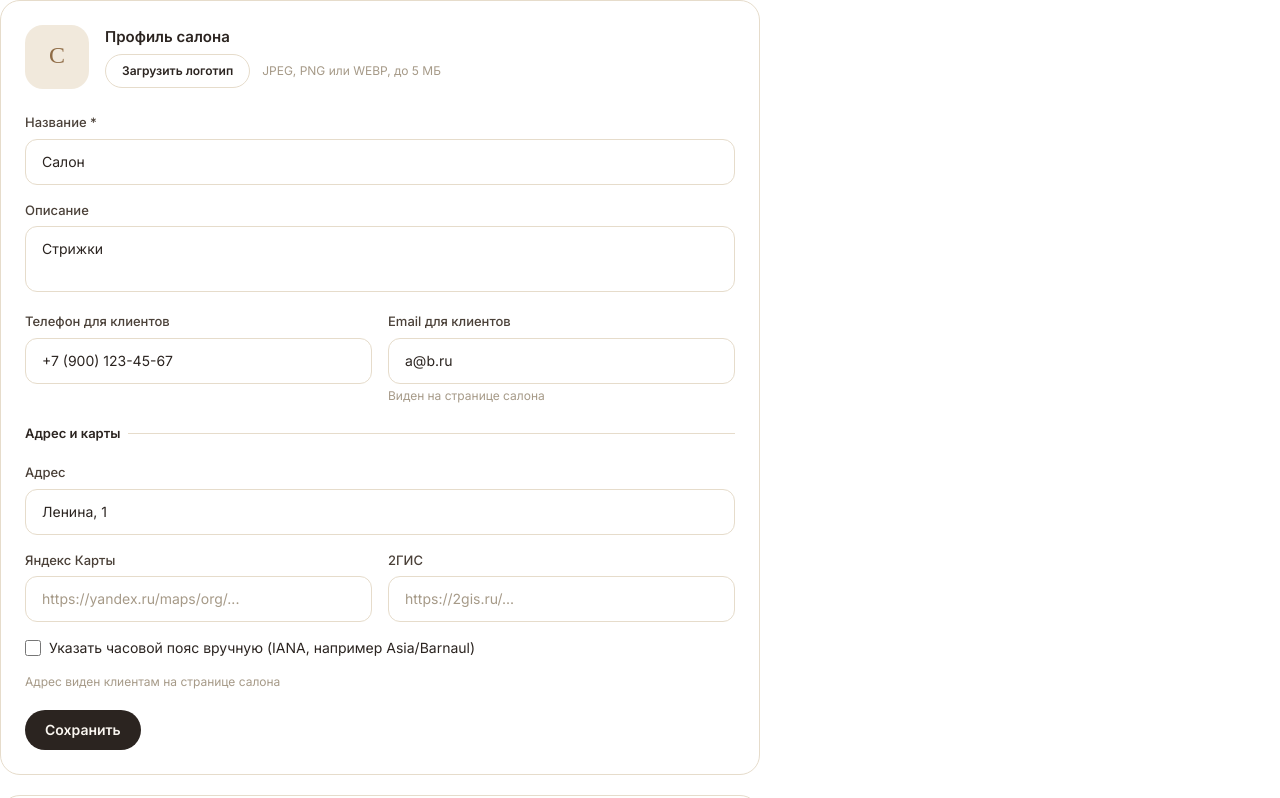
QA32 — US-32-02 сохранение профиля одной кнопкой › QA32-10: ручной пояс с другим смещением — то же окно подтверждения
This screenshot has width=1280, height=798.
Click the checkbox labelled "Указать часовой пояс вручную (IANA, например Asia/Barnaul)". click: (33, 648)
box: [25,640,41,656]
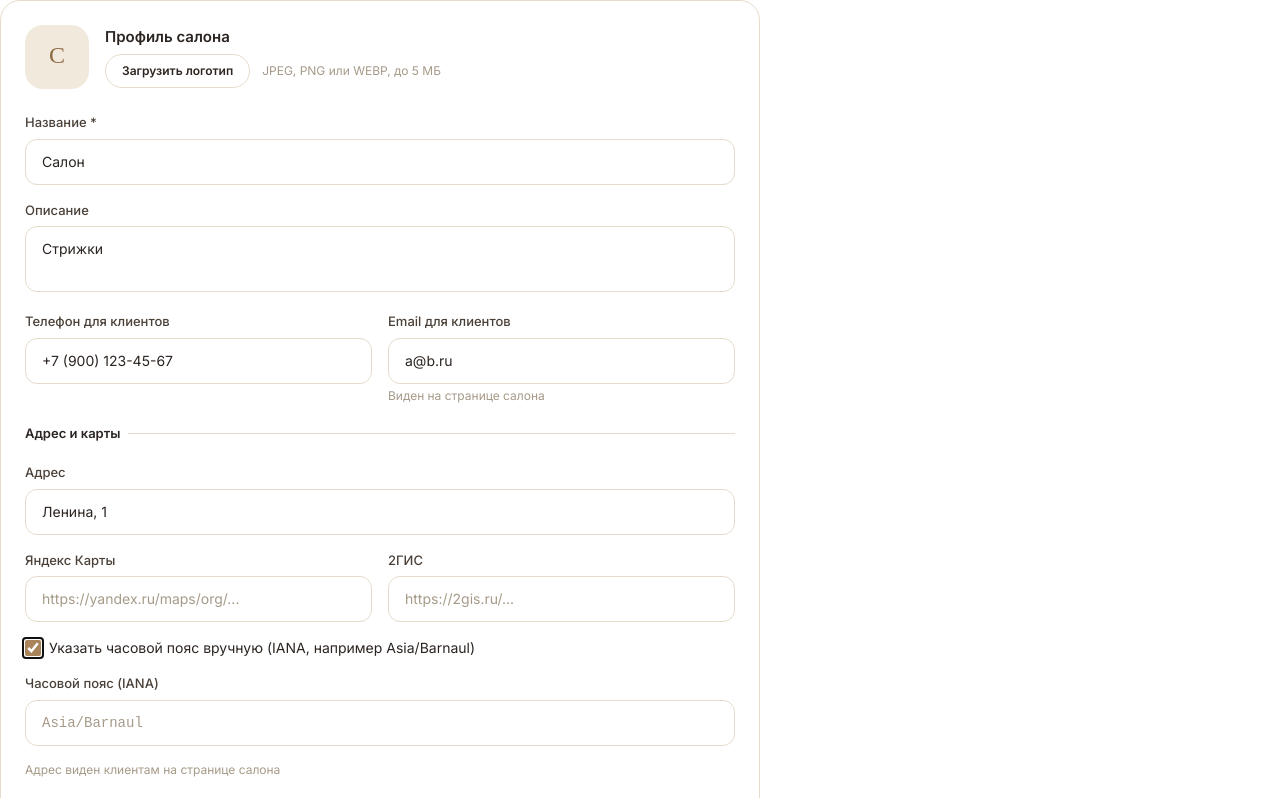
Type "Europe/Moscow" into the field labelled "Часовой пояс (IANA)". click: (380, 722)
box: [25,700,735,746]
(page scrolled)
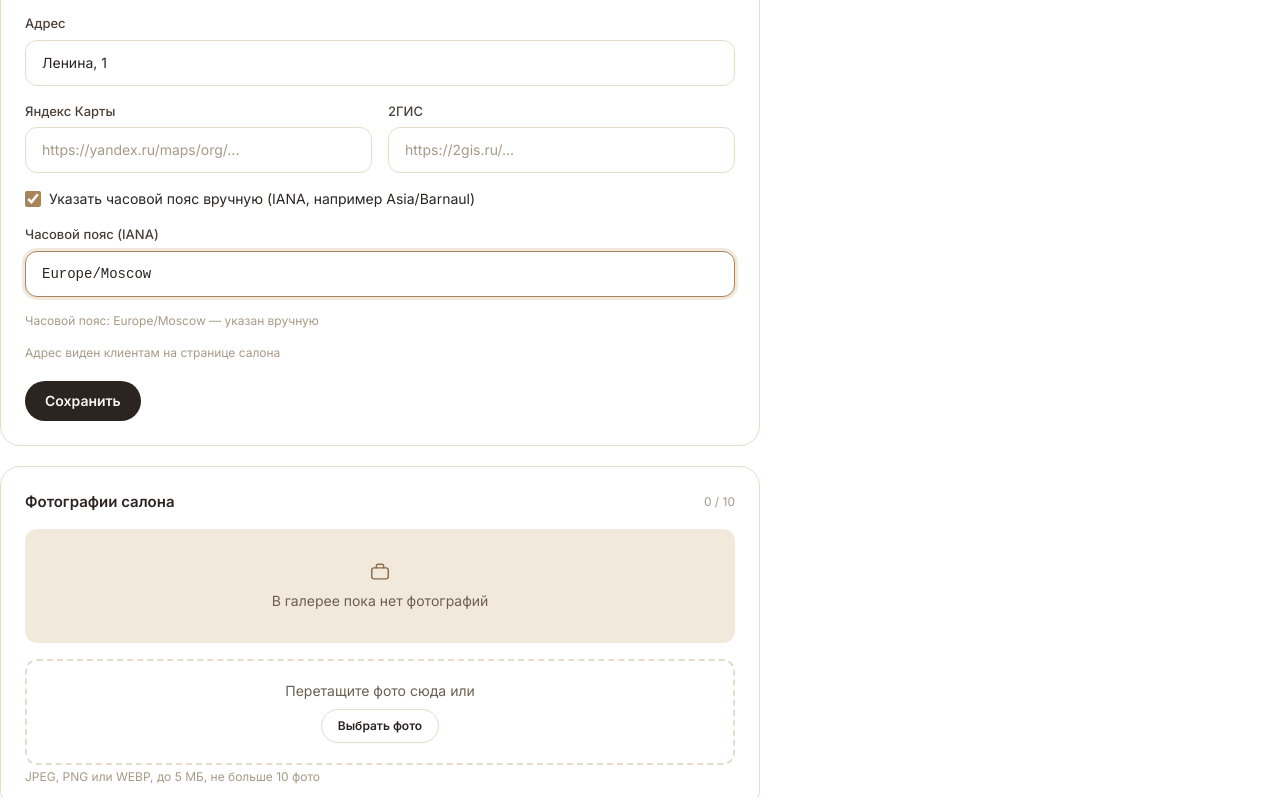
Click the button "Сохранить". click: (83, 400)
box: [25,380,141,420]
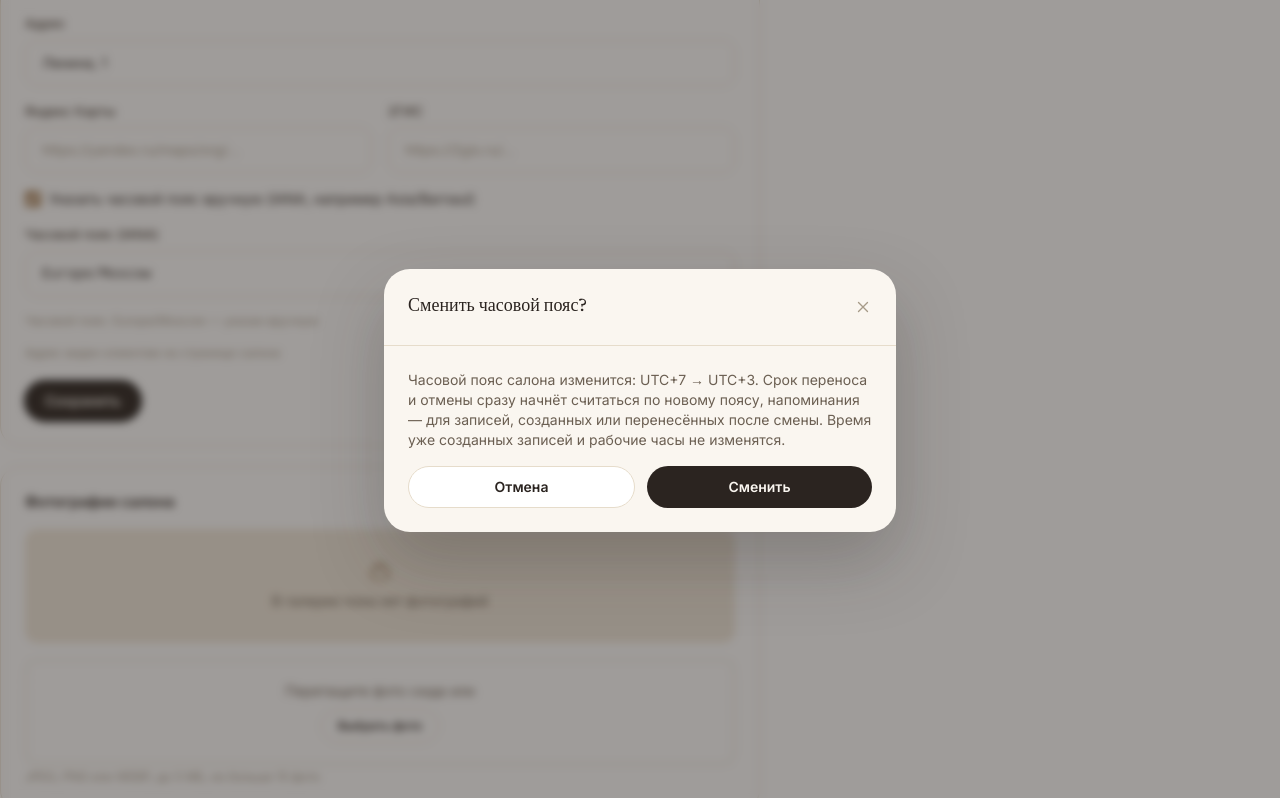
Expected: the button "Сменить" is shown, [647,466,872,508]
